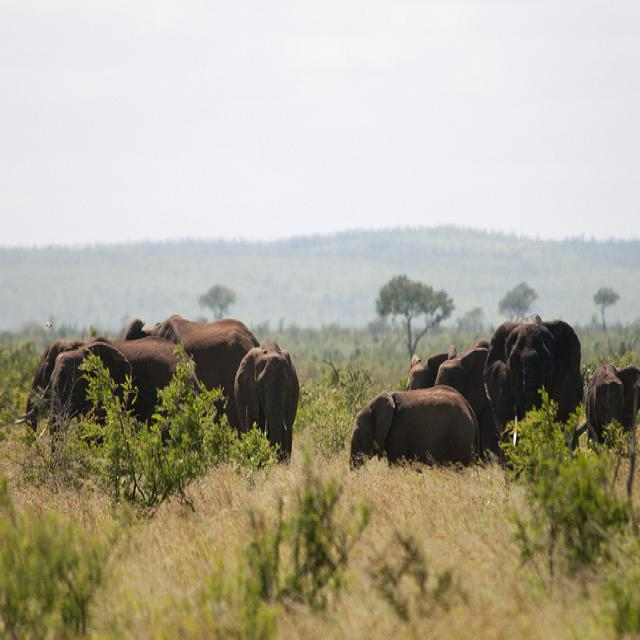Elephant: (22, 334, 207, 458), (123, 313, 260, 434), (482, 315, 583, 455), (349, 384, 480, 471), (434, 339, 506, 462), (233, 337, 299, 464)
